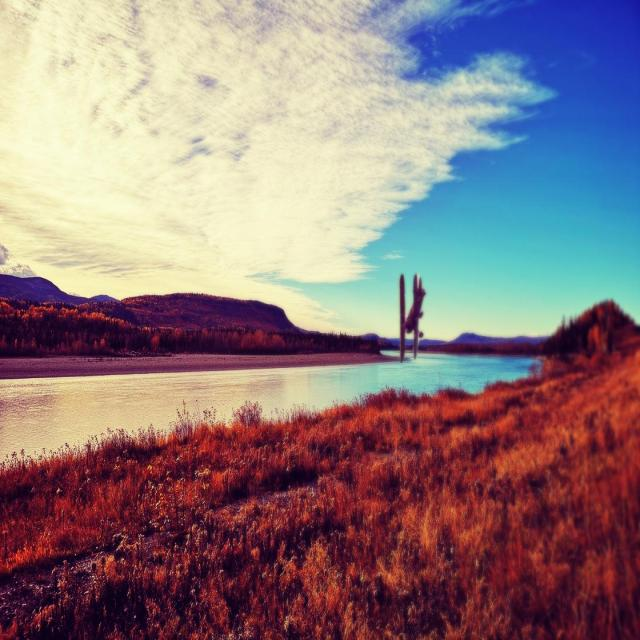airplane: (398, 269, 427, 364)
